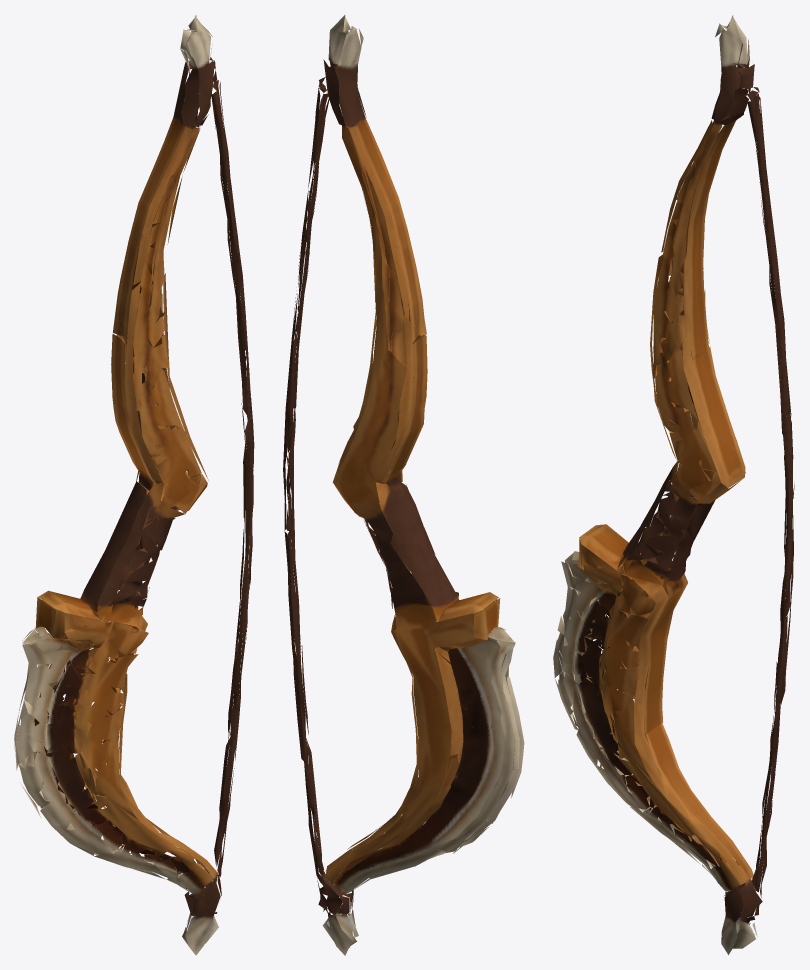
The model's file is arco1.glb.
The picture shows the model from 3 angles, left to right: view 1: azimuth 30°, elevation 25°; view 2: azimuth 150°, elevation 25°; view 3: azimuth 330°, elevation 25°; orthographic projection.
Parts seen in each view (by area): view 1: geometry_0; view 2: geometry_0; view 3: geometry_0.
Part boxes in pixels (x1=…): geometry_0: x1=14, y1=15, x2=254, y2=955; geometry_0: x1=283, y1=14, x2=524, y2=955; geometry_0: x1=553, y1=15, x2=794, y2=954.
Size of the model in its own units: 1.27 by 4.75 by 0.2919.
Materials: 1 (1 with a texture image).
